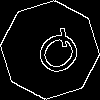Q: (25, 25, 87, 86)
